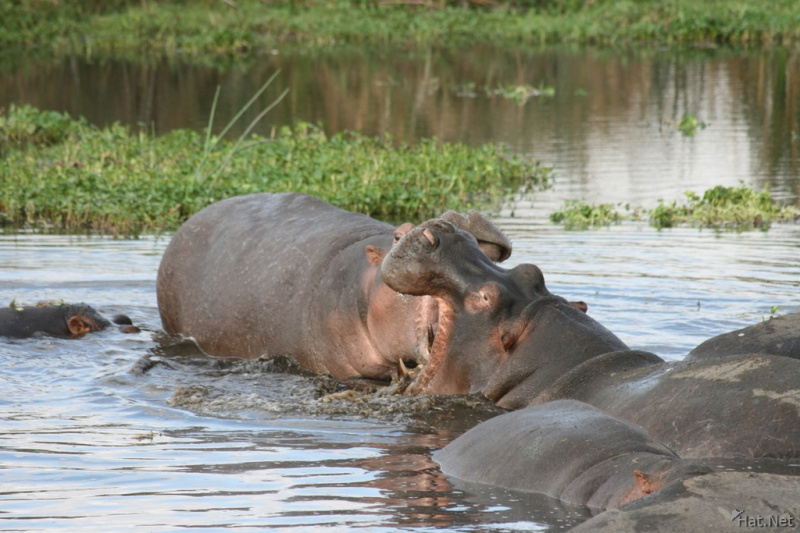hipopotamo: (396, 223, 800, 450), (153, 189, 494, 373)
